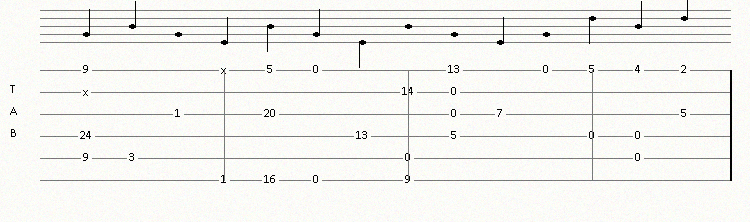0: (313, 174, 323, 186), (313, 64, 323, 76), (405, 152, 415, 164), (451, 108, 461, 120), (451, 86, 461, 98), (543, 64, 553, 76), (589, 130, 599, 142), (635, 130, 645, 142), (635, 152, 645, 164)
1: (175, 108, 185, 120), (221, 174, 231, 186)
13: (356, 130, 372, 142), (448, 64, 464, 76)
14: (402, 86, 418, 98)
16: (264, 174, 280, 186)
2: (681, 64, 691, 76)
20: (264, 108, 280, 120)
24: (80, 130, 96, 142)
3: (129, 152, 139, 164)
4: (635, 64, 645, 76)
5: (267, 64, 277, 76), (451, 130, 461, 142), (589, 64, 599, 76), (681, 108, 691, 120)
7: (497, 108, 507, 120)
9: (83, 64, 93, 76), (83, 152, 93, 164), (405, 174, 415, 186)
x: (83, 87, 92, 97), (221, 65, 230, 75)
